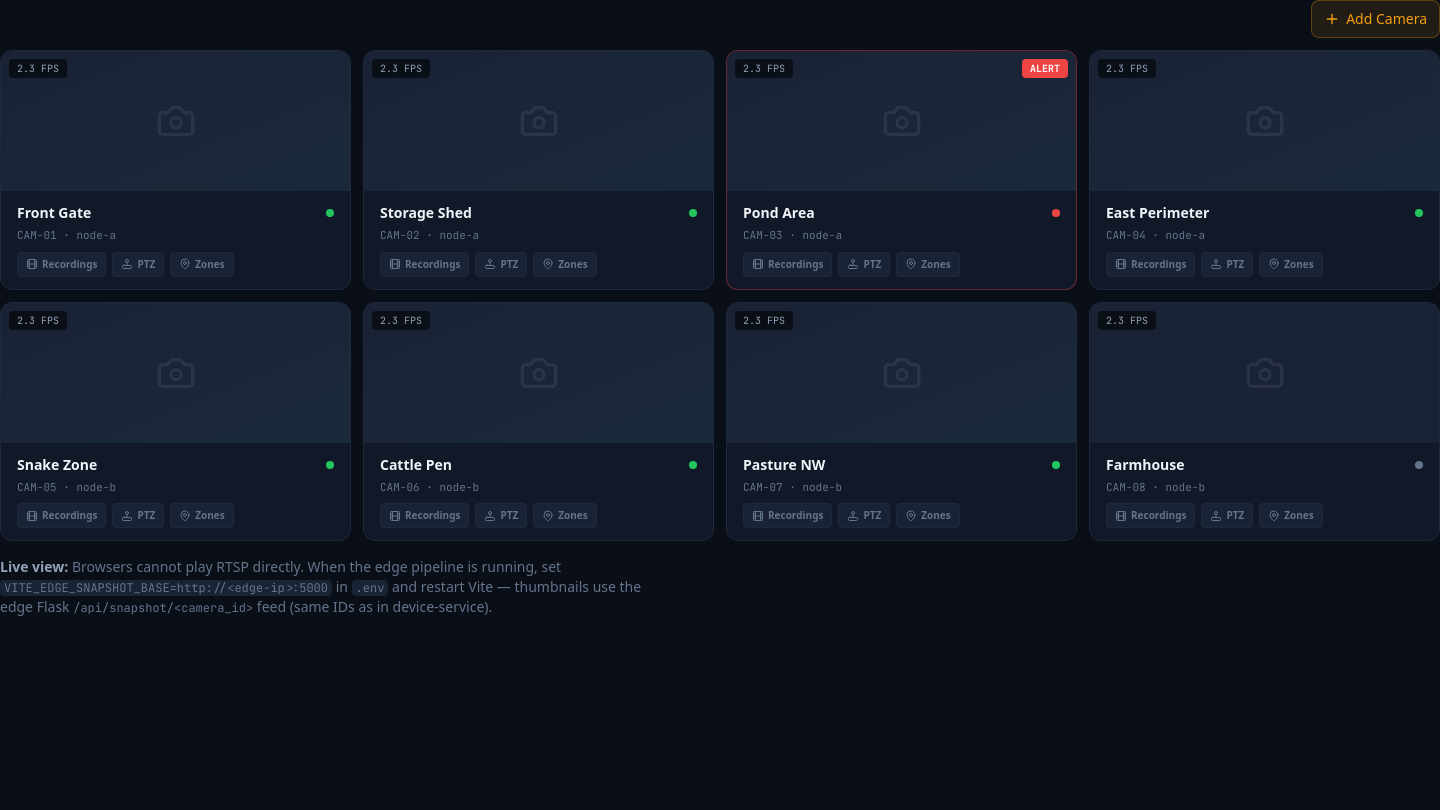
Test case: CamerasPage › opens detail dialog when a camera card is clicked
Click the button with aria-label "Open details for Front Gate": coordinates (176, 170) [0, 50, 351, 290]
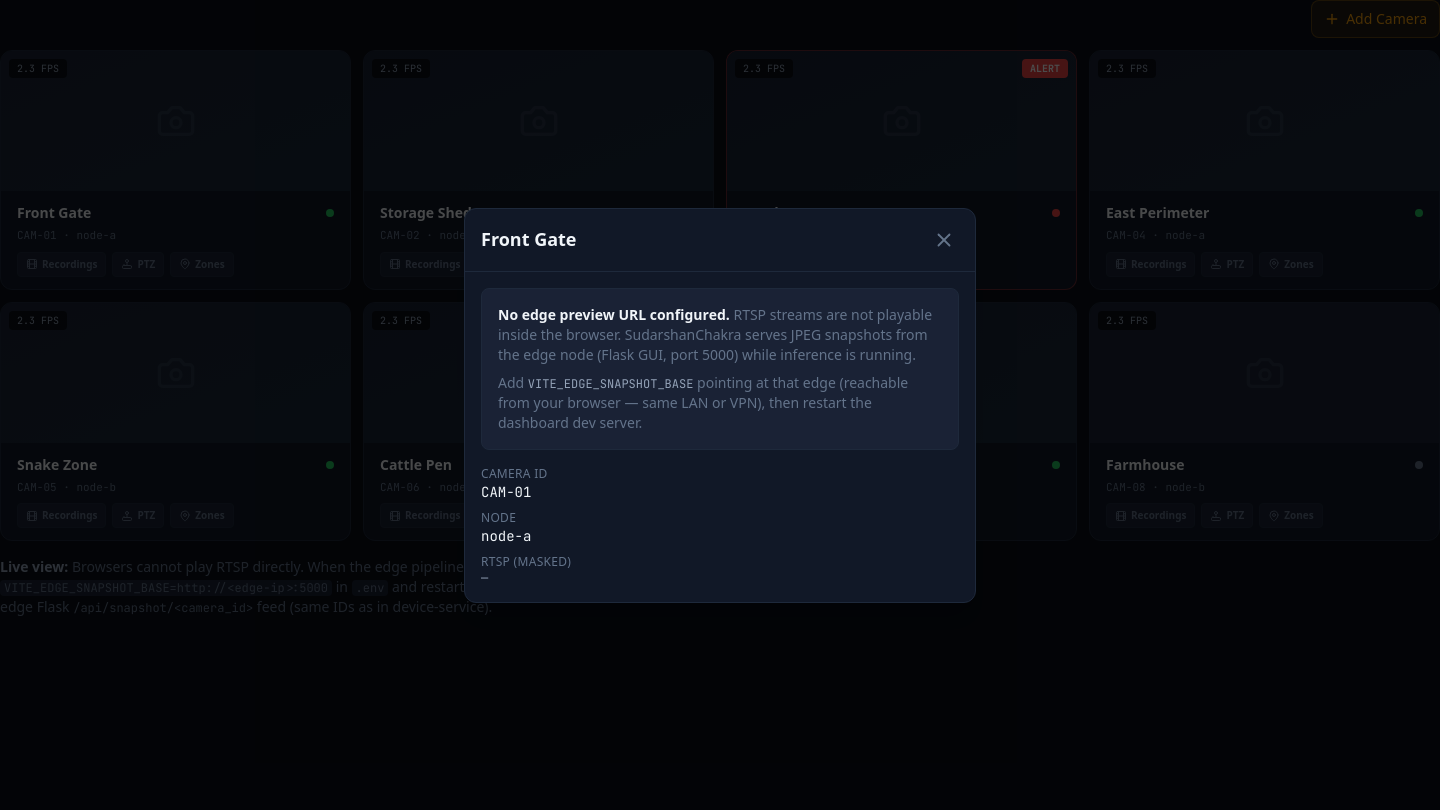
Check: the dialog is shown, box [464, 208, 976, 602]
Check: the text "No edge preview URL configured." is shown, box [498, 304, 730, 324]
Click the button named "Close": coordinates (944, 240) [929, 224, 959, 254]
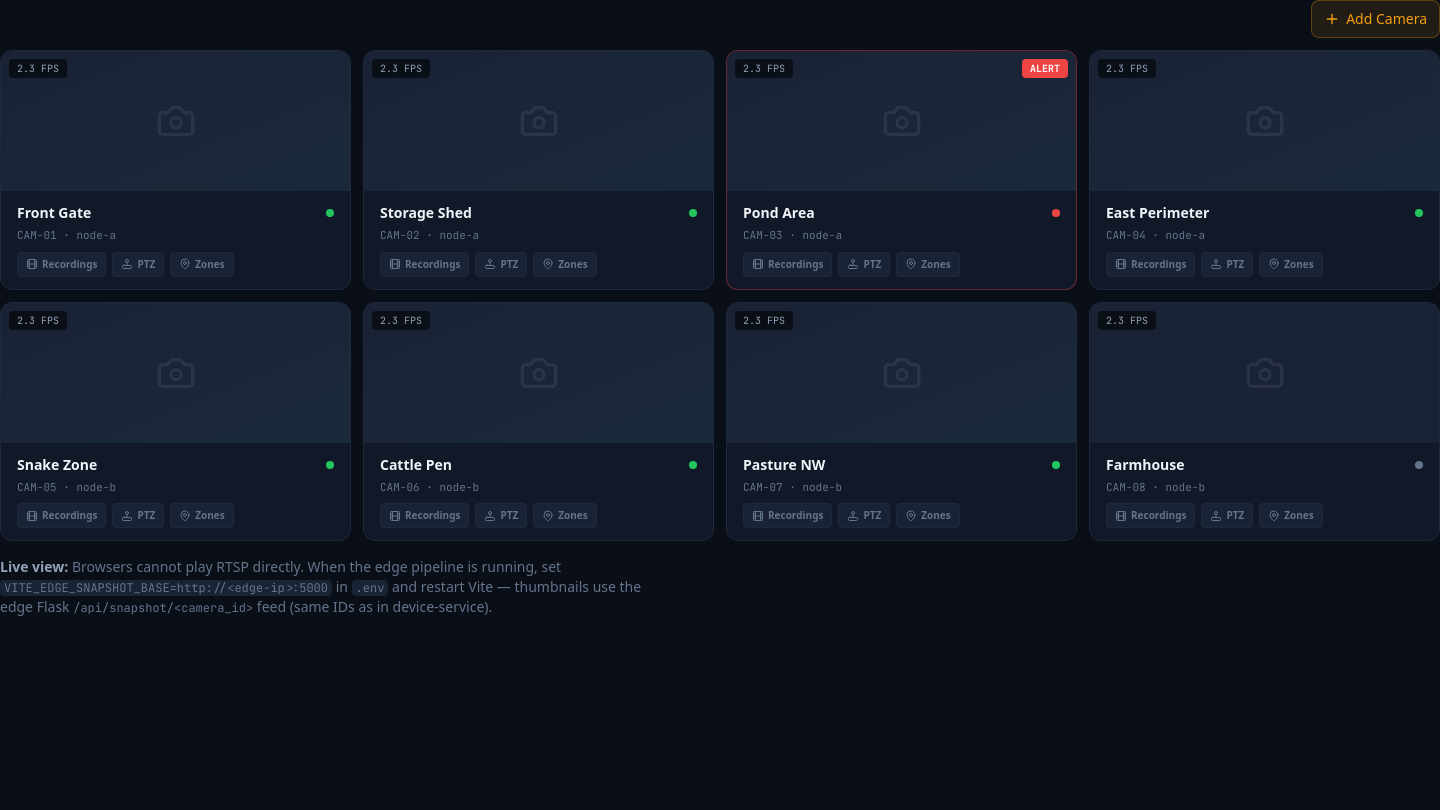
Check: the dialog is gone
